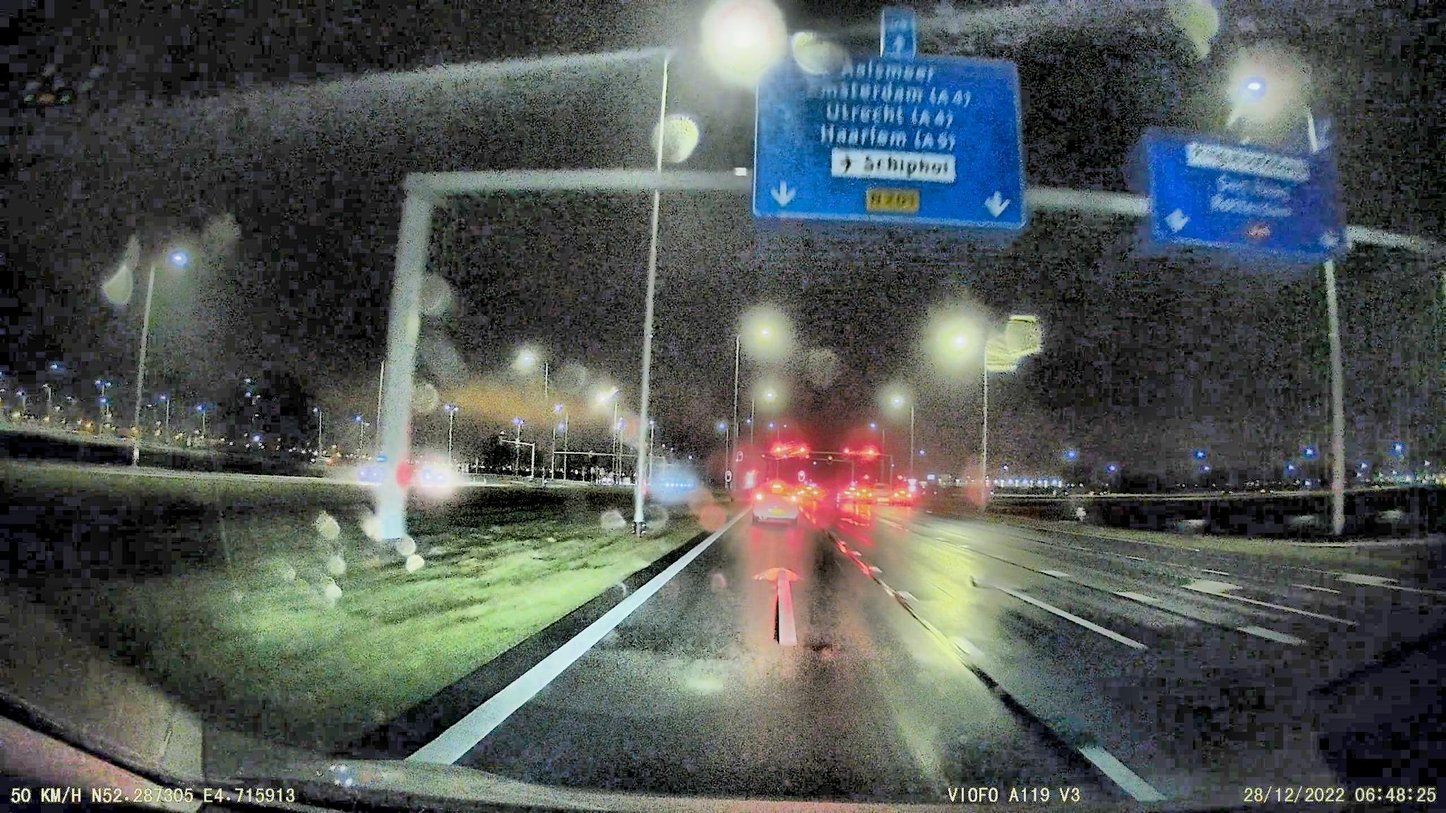Roads: (408, 514, 1416, 780)
